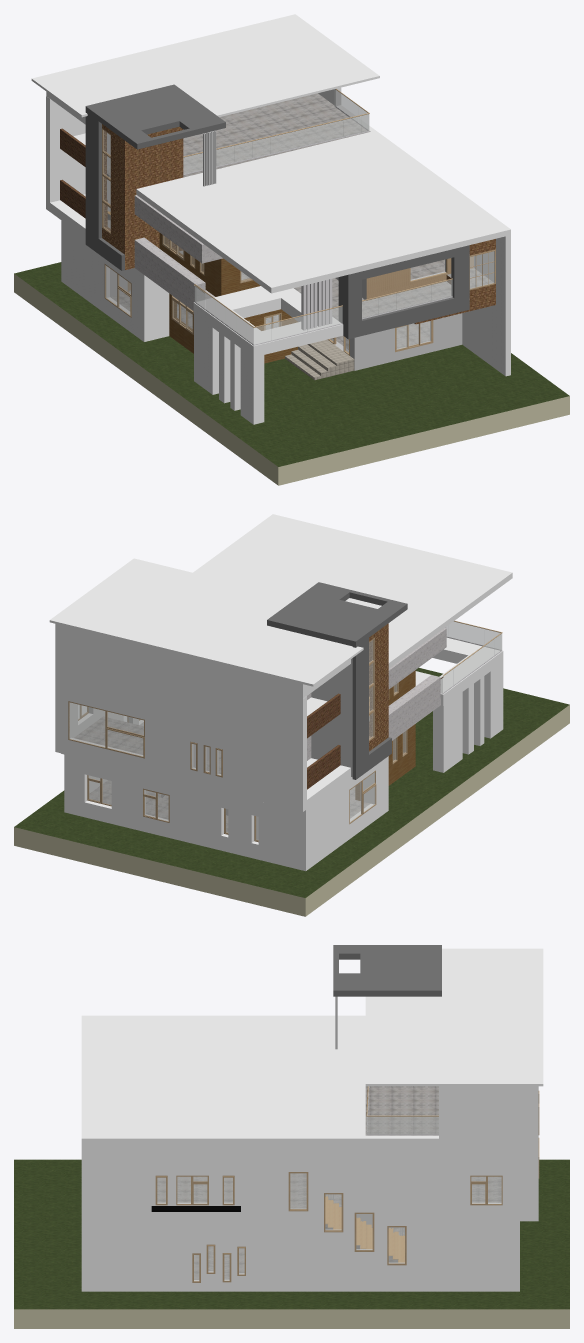
File: House.glb
3 renders of one model, top to bottom at view 1: azimuth 30°, elevation 25°; view 2: azimuth 150°, elevation 25°; view 3: azimuth 270°, elevation 25°, orthographic. The views are drawn at different scales.
Parts seen in each view (by area): view 1: Material5, Material15, Material7, Material24.001, Material16, Material9.002, Material6, Material2, Material10, Material4, Material9, Material12 (+6 smaller); view 2: Material5, Material15, Material16, Material7, Material24.001, Material10, Material2, Material6, Material23, Material9, Material4, Material14 (+2 smaller); view 3: Material5, Material15, Material16, Material24.001, Material7, Material9.002, Material9, Material23, Material25, Material23.002, Material13.
Boxes of the visible parts, x1,y1,x2,y2 form: Material5: (31, 14, 510, 424); Material15: (14, 262, 569, 466); Material7: (85, 84, 469, 339); Material24.001: (103, 89, 494, 352); Material16: (14, 274, 569, 485); Material9.002: (107, 93, 429, 349); Material6: (102, 124, 495, 324); Material2: (107, 130, 462, 370); Material10: (134, 195, 222, 310); Material4: (159, 233, 297, 363); Material9: (179, 250, 493, 320); Material12: (110, 106, 452, 345); Material5: (49, 514, 512, 871); Material15: (14, 668, 569, 897); Material16: (14, 705, 569, 916); Material7: (267, 582, 407, 779); Material24.001: (69, 621, 502, 839); Material10: (307, 628, 446, 760); Material2: (161, 658, 352, 839); Material6: (369, 623, 388, 751); Material23: (68, 701, 376, 842); Material9: (74, 716, 221, 773); Material4: (355, 670, 415, 800); Material14: (307, 693, 340, 789); Material5: (81, 948, 543, 1291); Material15: (14, 1159, 569, 1309); Material16: (14, 1309, 569, 1328); Material24.001: (157, 1086, 501, 1281); Material7: (333, 945, 441, 996); Material9.002: (194, 1086, 438, 1279); Material9: (157, 1173, 501, 1208); Material23: (155, 1138, 539, 1282); Material25: (325, 1196, 404, 1262); Material23.002: (354, 1086, 438, 1265); Material13: (151, 1206, 240, 1211).
Size of the model in its own units: 16.33 by 12.21 by 25.66.
19 materials, 11 textured.
